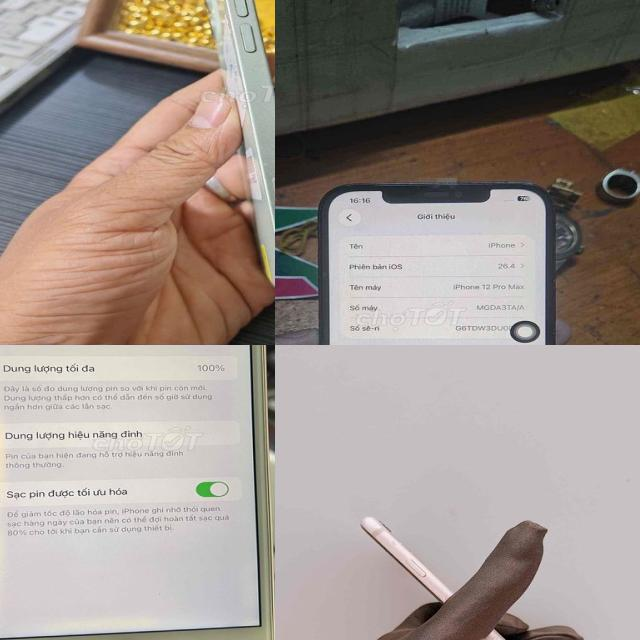scratch: (370, 528, 414, 554), (484, 629, 526, 640)
